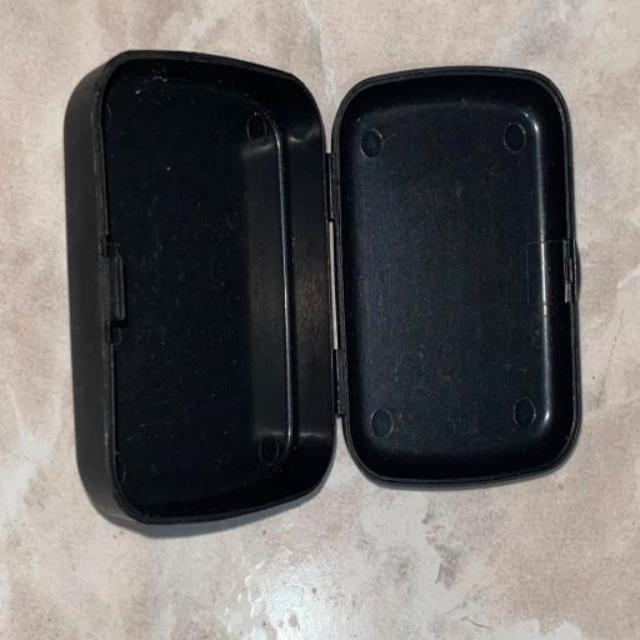HDPE: (64, 51, 582, 533)
